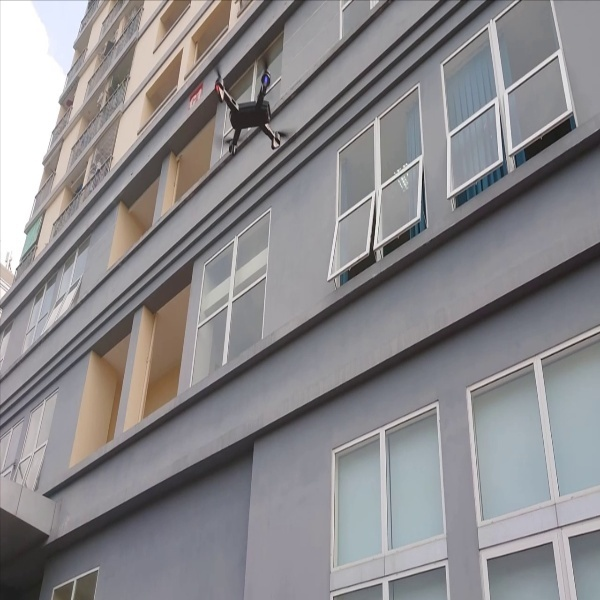drone: (203, 51, 306, 160)
